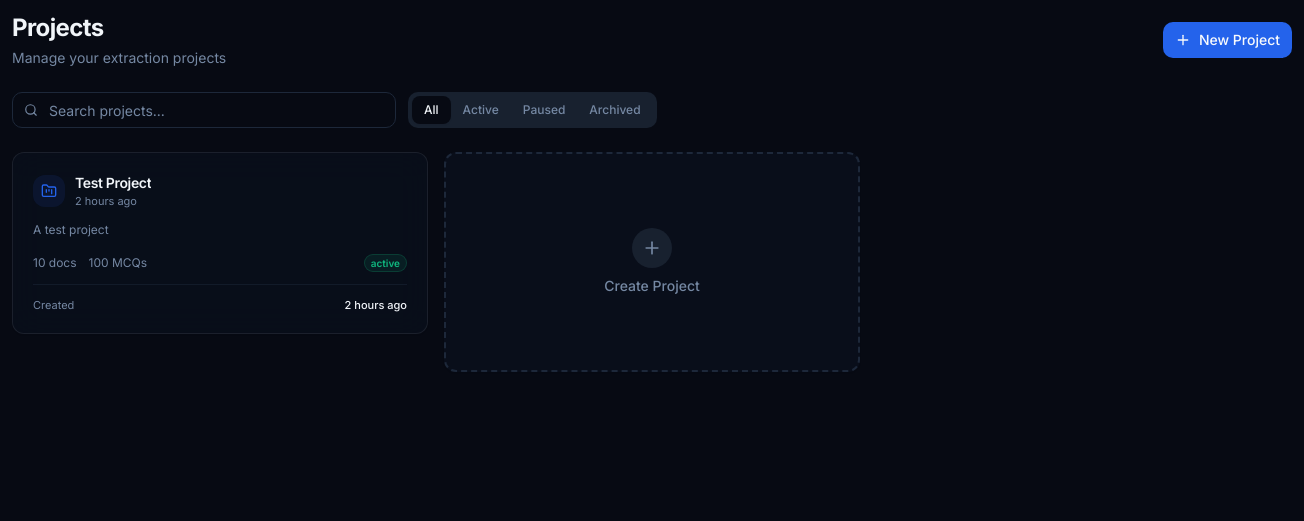
Scenario: Projects › filters projects by search
The width and height of the screenshot is (1304, 521).
Step 1. Type "nonexistent" into the field with placeholder "Search projects..." → point(204, 110), box left=12, top=92, right=396, bottom=128
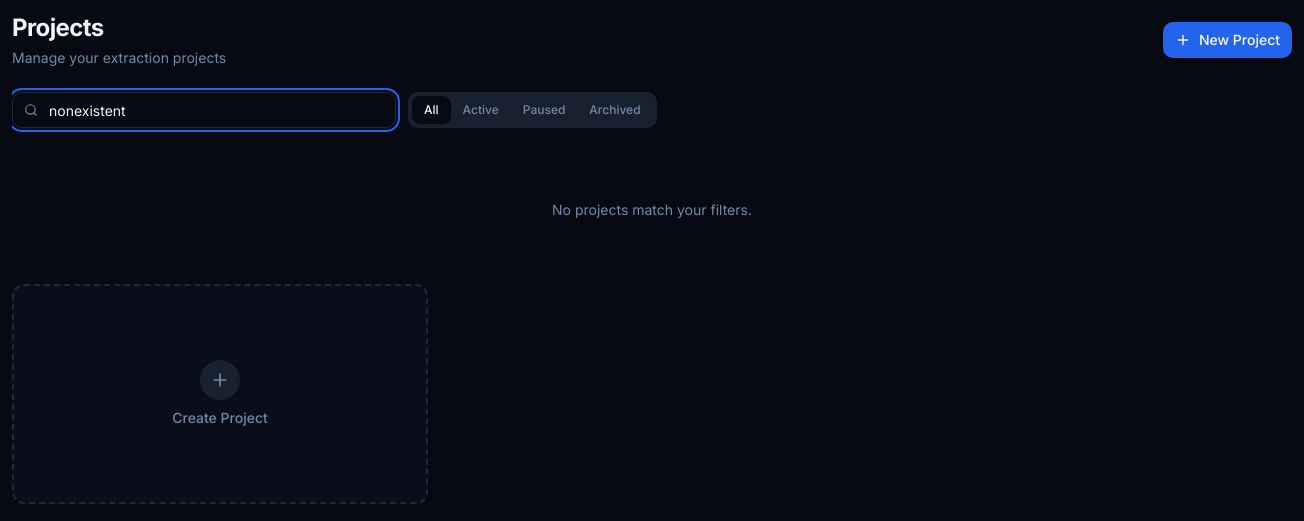
expect the text "No projects match your filters." is shown: met, box left=552, top=201, right=752, bottom=218
